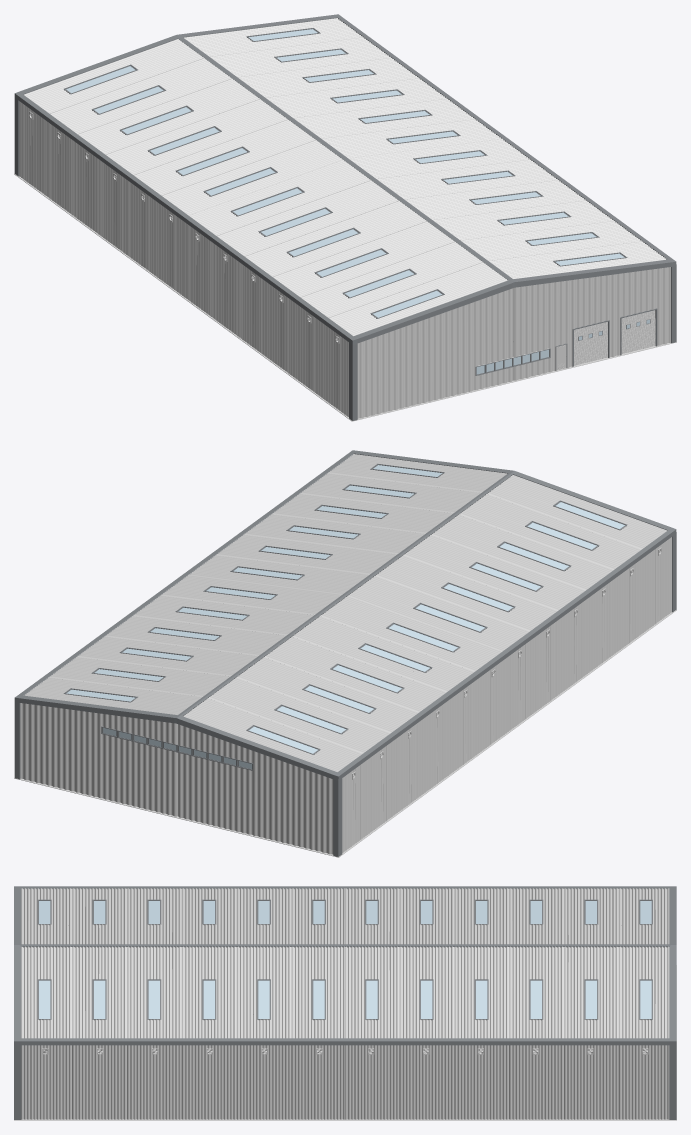
The model's file is Warehouse_Shell.fbx.
The picture shows the model from 3 angles, top to bottom: view 1: azimuth 30°, elevation 25°; view 2: azimuth 150°, elevation 25°; view 3: azimuth 270°, elevation 25°; orthographic projection. The views are drawn at different scales.
Parts seen in each view (by area): view 1: 03. dinding, 02. dinding depan, 04. besi lis, 05. gerbang, 06. lantai; view 2: 03. dinding, 02. dinding depan, 04. besi lis, 06. lantai, 05. gerbang; view 3: 03. dinding, 04. besi lis, 06. lantai.
Part boxes in pixels (x1=…): 03. dinding: x1=19, y1=18, x2=667, y2=416; 02. dinding depan: x1=357, y1=267, x2=670, y2=418; 04. besi lis: x1=14, y1=14, x2=676, y2=420; 05. gerbang: x1=475, y1=308, x2=657, y2=375; 06. lantai: x1=14, y1=173, x2=676, y2=421; 03. dinding: x1=25, y1=454, x2=671, y2=852; 02. dinding depan: x1=20, y1=571, x2=631, y2=854; 04. besi lis: x1=14, y1=450, x2=676, y2=856; 06. lantai: x1=14, y1=609, x2=676, y2=857; 05. gerbang: x1=101, y1=726, x2=253, y2=770; 03. dinding: x1=21, y1=888, x2=669, y2=1119; 04. besi lis: x1=14, y1=886, x2=676, y2=1119; 06. lantai: x1=14, y1=965, x2=676, y2=1120.
Bounding box in the file's own units: 17.32 × 5.09 × 31.24.
